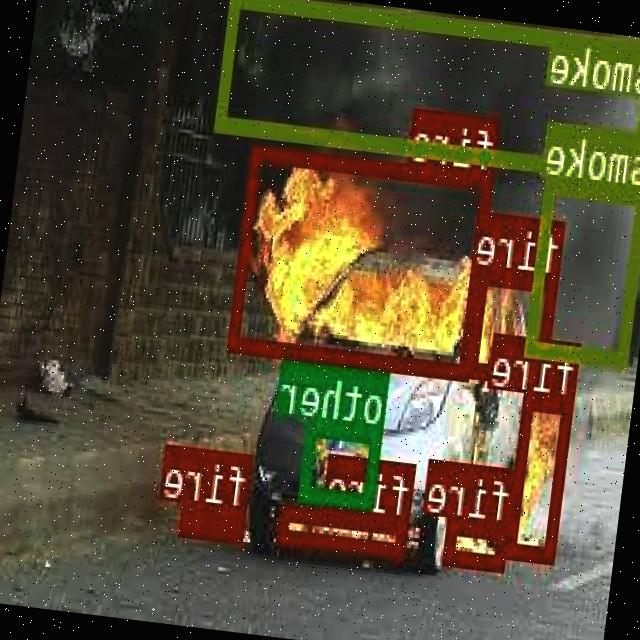fire: (230, 142, 496, 378), (506, 391, 576, 560), (468, 264, 561, 384), (279, 503, 411, 554), (444, 516, 510, 570), (182, 502, 248, 538)
smoke: (217, 0, 640, 180), (525, 176, 640, 365)
